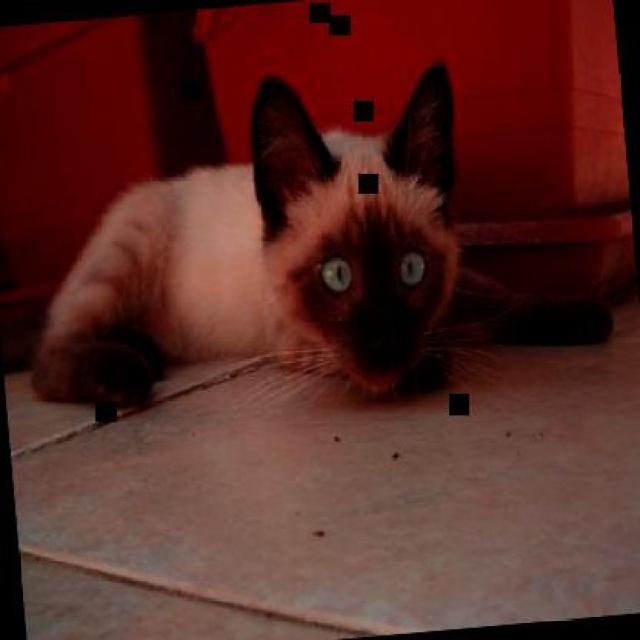cat: (5, 45, 617, 426)
